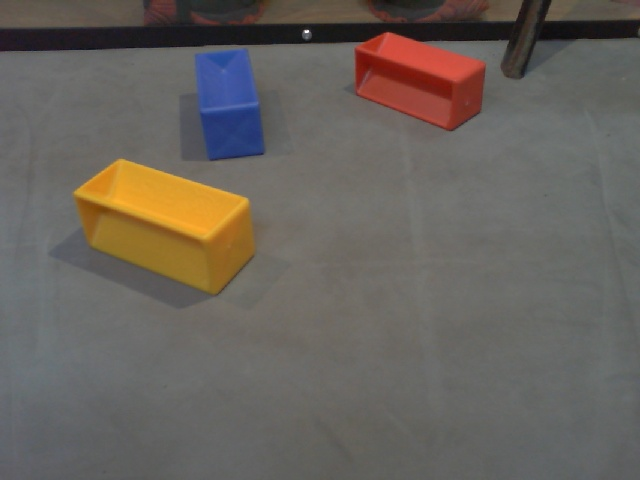BlueSample: (189, 43, 268, 164)
RedSample: (349, 28, 488, 133)
YellowSample: (73, 154, 261, 301)
